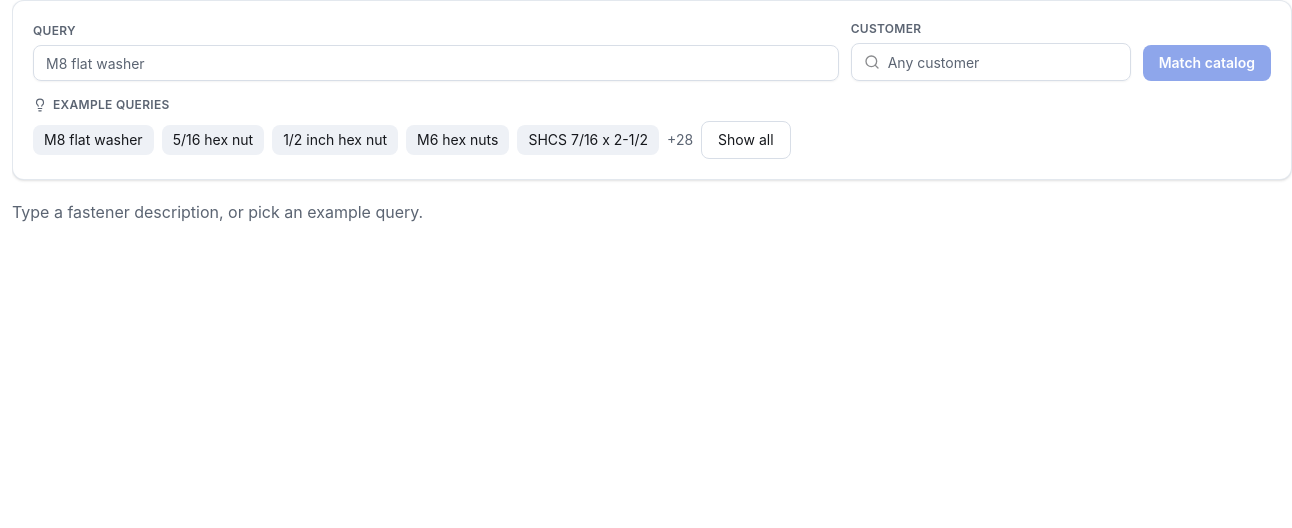
Scenario: ResultsPanel › shows the single card of a unique match
The width and height of the screenshot is (1292, 528).
Type "M8 x 16 hex cap screw" into the field labelled "Query" at x=436, y=63, box [33,45,839,81]
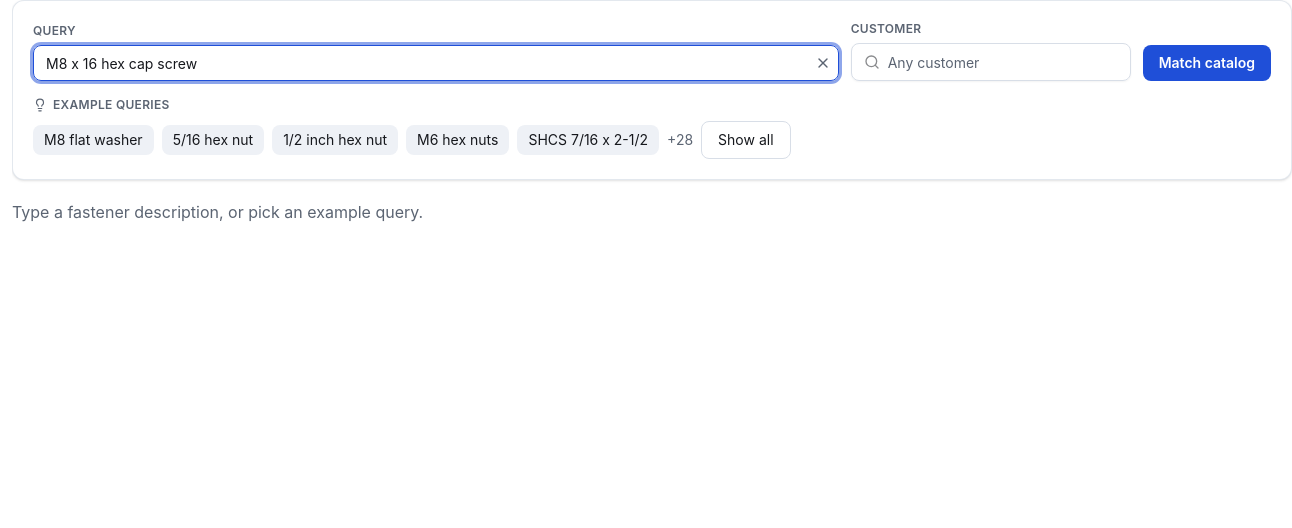
Click the button "Match catalog" at x=1207, y=63, box [1143,45,1271,81]
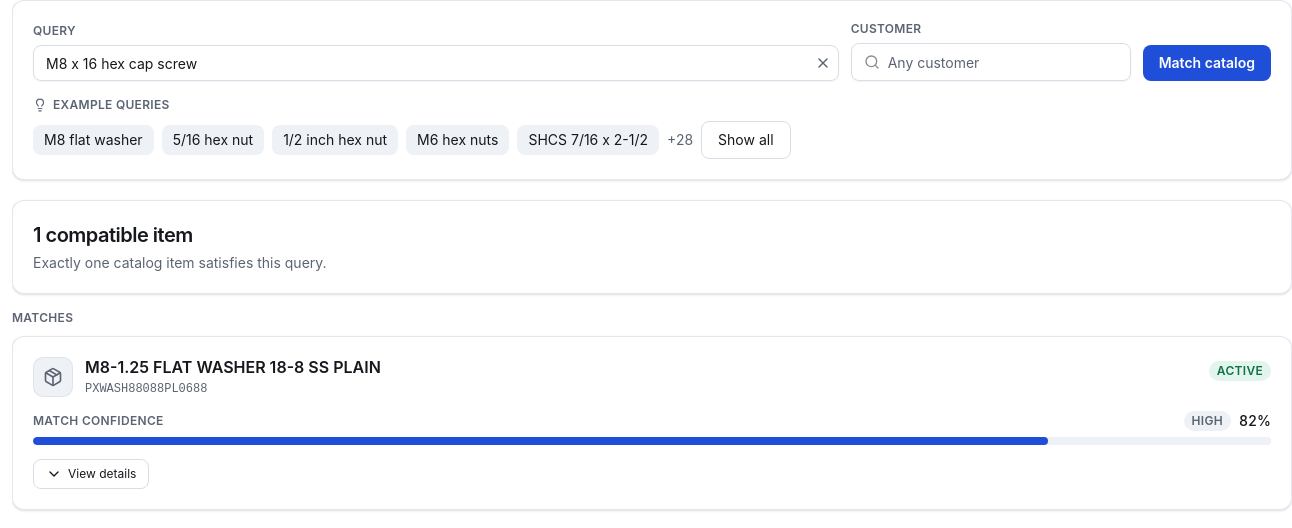
Expected: the heading "1 compatible item" is shown, [33,223,193,247]
